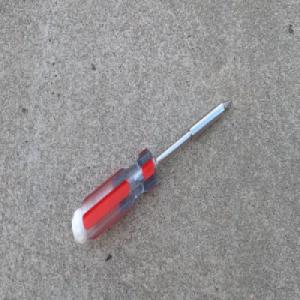Screwdriver: (70, 96, 232, 246)
